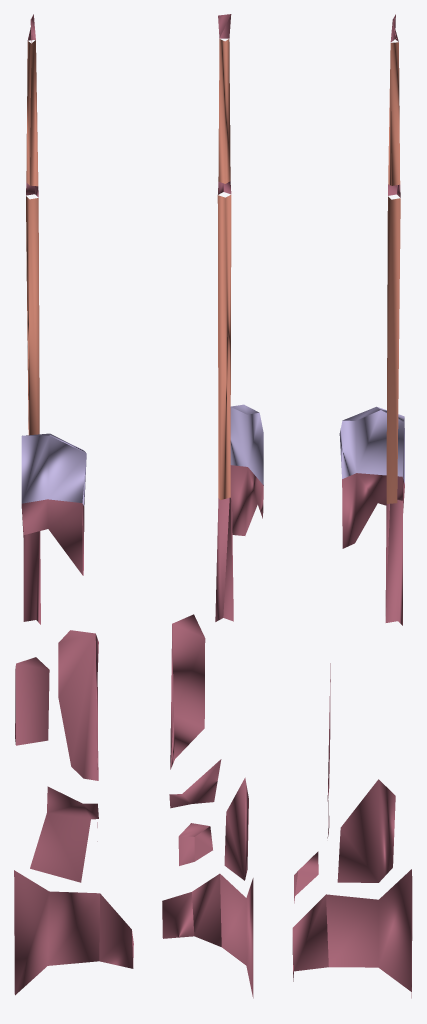
File: antenna_c_lod2.glb
3 views of the same model, side by side, from view 1: azimuth 90°, elevation 25°; view 2: azimuth 210°, elevation 25°; view 3: azimuth 270°, elevation 25° (orthographic).
Bounding box in the file's own units: 3.11 × 45.15 × 4.97.
